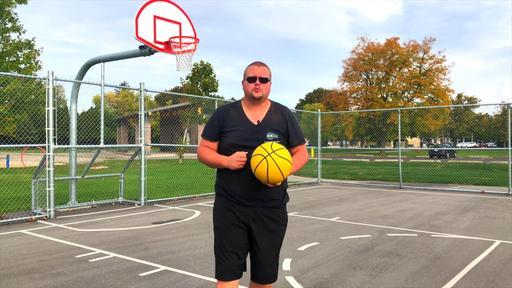ball: (250, 142, 293, 184)
human: (198, 60, 309, 288)
rim: (168, 36, 200, 72)
